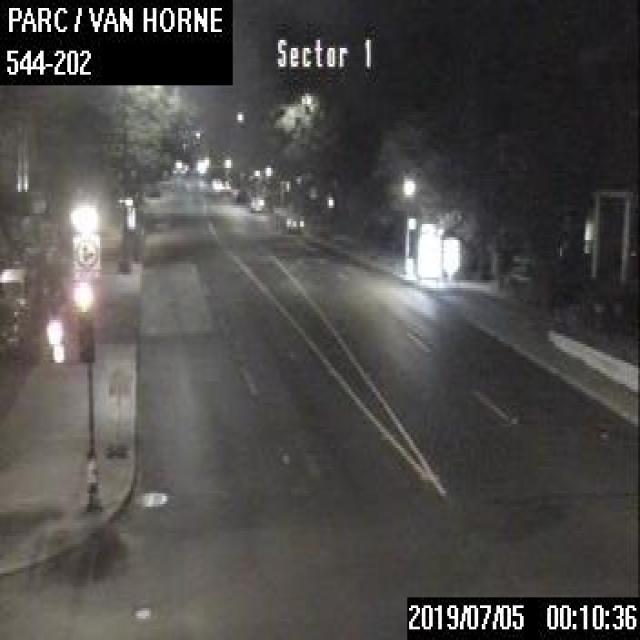vehicle: (0, 260, 42, 313), (284, 208, 304, 232)
